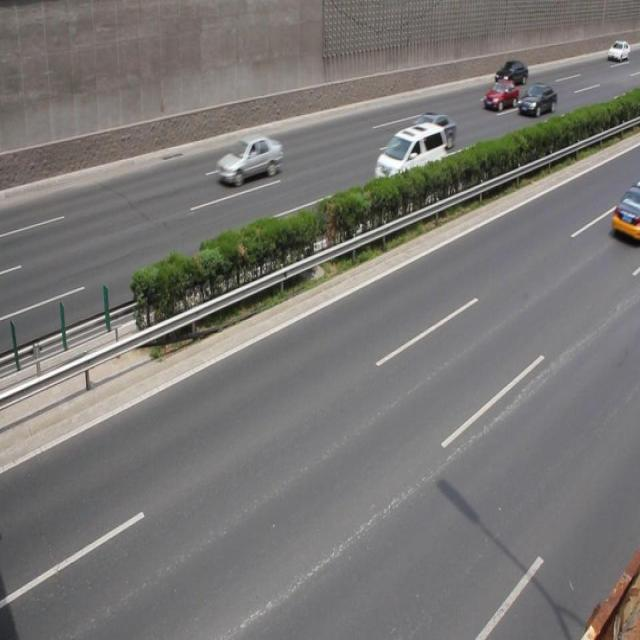car: (373, 122, 448, 197), (215, 138, 283, 186), (402, 111, 456, 153), (610, 188, 640, 241), (517, 84, 556, 116), (483, 76, 517, 112), (492, 60, 527, 86)
